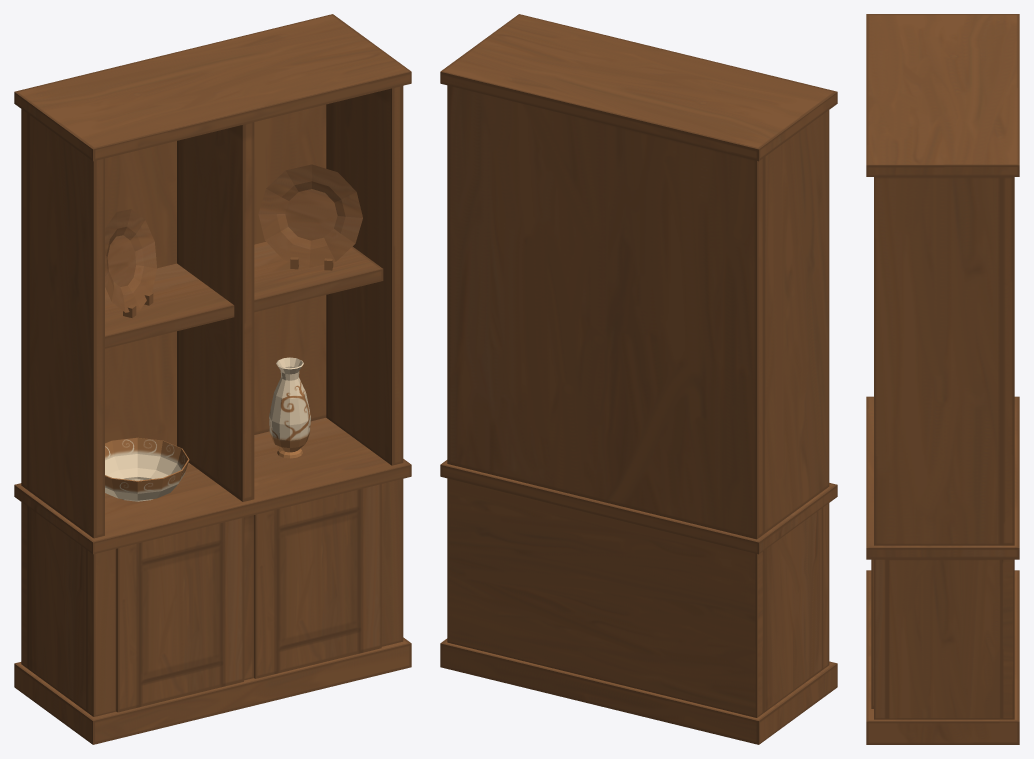
File: Lemari_Piring.fbx
3 views of the same model, side by side, from view 1: azimuth 30°, elevation 25°; view 2: azimuth 150°, elevation 25°; view 3: azimuth 270°, elevation 25° (orthographic). The views are drawn at different scales.
Visible parts, largest first — view 1: Lemari_Piring.000, Lemari_Piring_Pintu_Bawah_(L).001, Lemari_Piring_Pintu_Bawah_(L), Circle.008, Circle.009; view 2: Lemari_Piring.000; view 3: Lemari_Piring.000, Lemari_Piring_Pintu_Bawah_(L).001.
Boxes of the visible parts, left/top/right/bottom form: Lemari_Piring.000: left=14, top=14, right=411, bottom=744; Lemari_Piring_Pintu_Bawah_(L).001: left=254, top=484, right=381, bottom=678; Lemari_Piring_Pintu_Bawah_(L): left=116, top=517, right=243, bottom=712; Circle.008: left=105, top=437, right=189, bottom=501; Circle.009: left=269, top=357, right=310, bottom=458; Lemari_Piring.000: left=440, top=14, right=837, bottom=744; Lemari_Piring.000: left=866, top=14, right=1019, bottom=744; Lemari_Piring_Pintu_Bawah_(L).001: left=871, top=559, right=873, bottom=708.
Size of the model in its own units: 140 by 250 by 60.
Materials: 4 (4 with a texture image).
